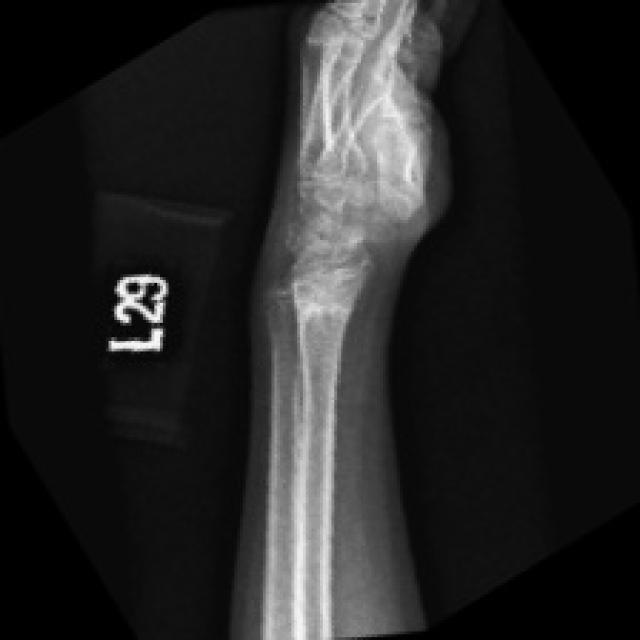fracture: (250, 224, 326, 342)
